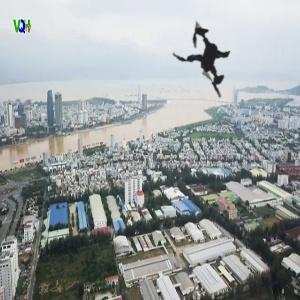drone: (145, 1, 268, 124)
